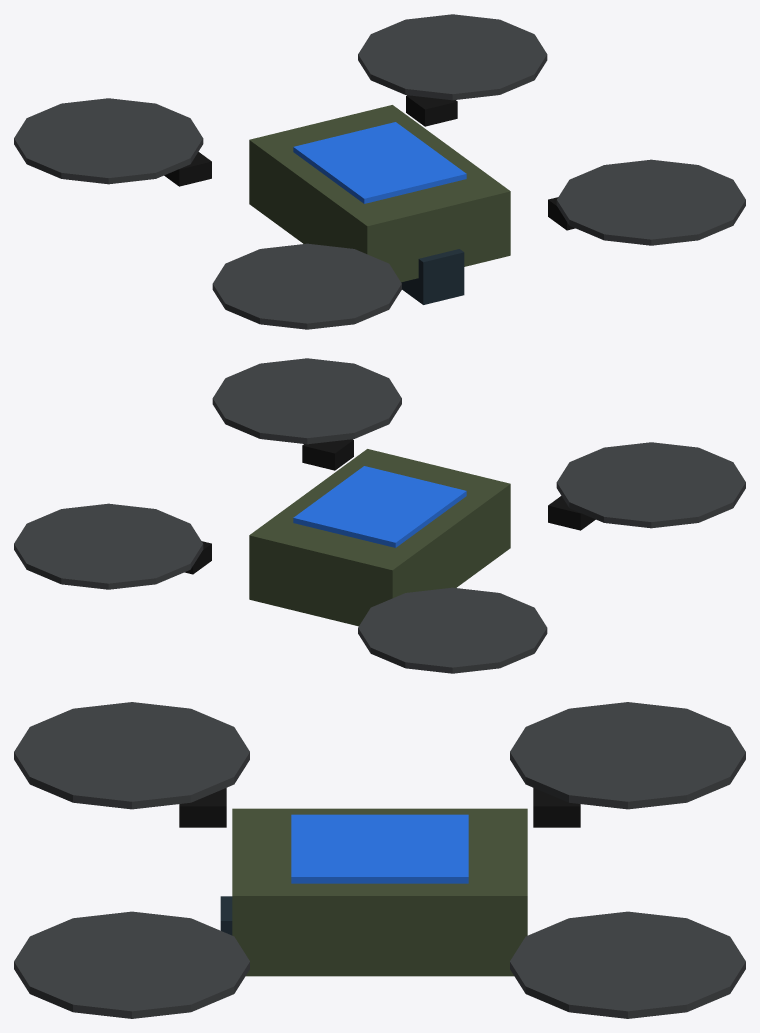
The model's file is kp_recon_drone.glb.
3 views of the same model, one above another, from view 1: azimuth 30°, elevation 25°; view 2: azimuth 150°, elevation 25°; view 3: azimuth 270°, elevation 25° (orthographic). The views are drawn at different scales.
Parts seen in each view (by area): view 1: body, rotor_0, rotor_3, rotor_1, rotor_2, team_plate, camera_pod, arm_3, arm_2; view 2: body, rotor_1, rotor_2, rotor_0, rotor_3, team_plate, arm_1, arm_0; view 3: body, rotor_0, rotor_1, rotor_2, rotor_3, team_plate, arm_0, arm_2.
Boxes of the visible parts, left/top/right/bottom form: body: left=249, top=105, right=510, bottom=282; rotor_0: left=212, top=243, right=401, bottom=329; rotor_3: left=358, top=14, right=547, bottom=100; rotor_1: left=556, top=159, right=745, bottom=245; rotor_2: left=14, top=98, right=203, bottom=184; team_plate: left=293, top=122, right=466, bottom=203; camera_pod: left=401, top=249, right=464, bottom=304; arm_3: left=406, top=95, right=457, bottom=126; arm_2: left=164, top=152, right=211, bottom=186; body: left=249, top=449, right=510, bottom=626; rotor_1: left=212, top=358, right=401, bottom=444; rotor_2: left=358, top=587, right=547, bottom=673; rotor_0: left=556, top=442, right=745, bottom=528; rotor_3: left=14, top=503, right=203, bottom=589; team_plate: left=293, top=466, right=466, bottom=547; arm_1: left=302, top=439, right=353, bottom=470; arm_0: left=548, top=496, right=595, bottom=530; body: left=232, top=808, right=527, bottom=976; rotor_0: left=14, top=702, right=249, bottom=809; rotor_1: left=14, top=911, right=249, bottom=1018; rotor_2: left=510, top=702, right=745, bottom=809; rotor_3: left=510, top=911, right=745, bottom=1018; team_plate: left=291, top=814, right=468, bottom=883; arm_0: left=179, top=788, right=226, bottom=827; arm_2: left=533, top=788, right=580, bottom=827.
Size of the model in its own units: 1.74 by 0.304 by 1.74.
